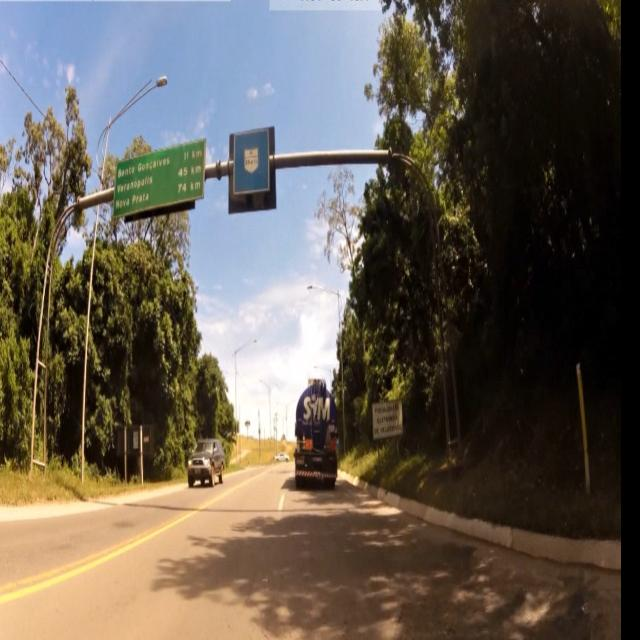I-4: (112, 128, 216, 229)
